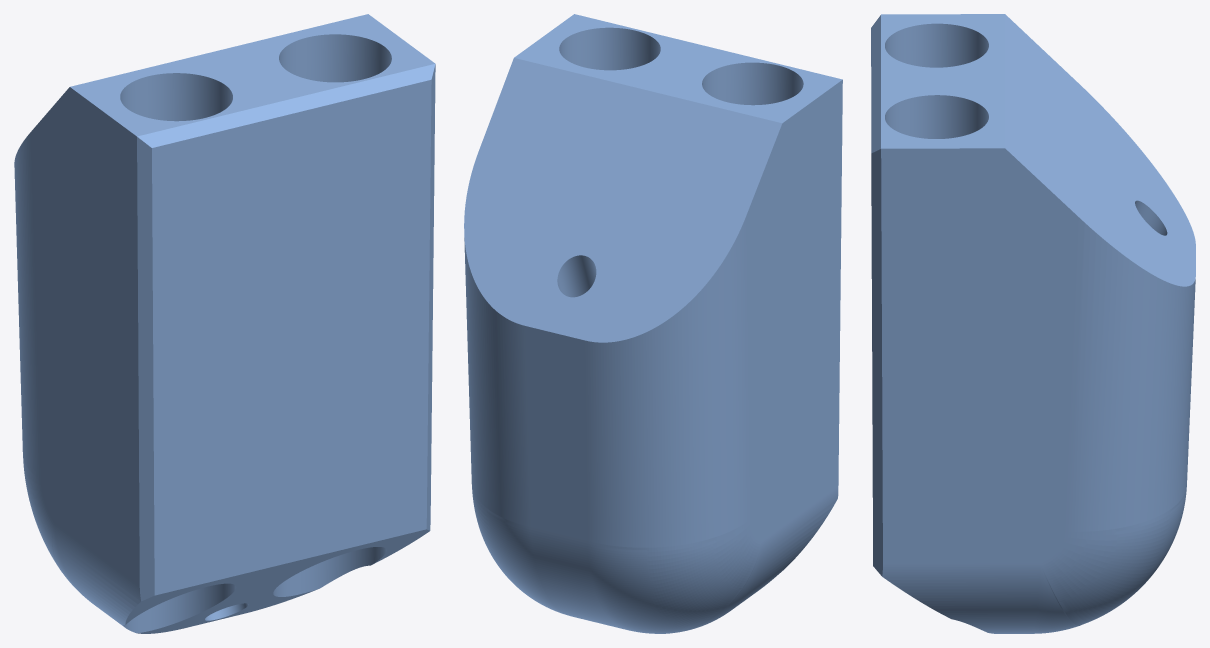
File: dedo_anular_3.dae
3 views of the same model, side by side, from view 1: azimuth 30°, elevation 25°; view 2: azimuth 150°, elevation 25°; view 3: azimuth 270°, elevation 25° (orthographic). The views are drawn at different scales.
Visible parts, largest first — view 1: Fingerdesign-All-2.005; view 2: Fingerdesign-All-2.005; view 3: Fingerdesign-All-2.005.
Boxes of the visible parts, x1=… form: Fingerdesign-All-2.005: x1=14, y1=14, x2=435, y2=633; Fingerdesign-All-2.005: x1=464, y1=14, x2=842, y2=633; Fingerdesign-All-2.005: x1=871, y1=14, x2=1195, y2=633.
Size of the model in its own units: 0.0128 by 0.0131 by 0.0235.
